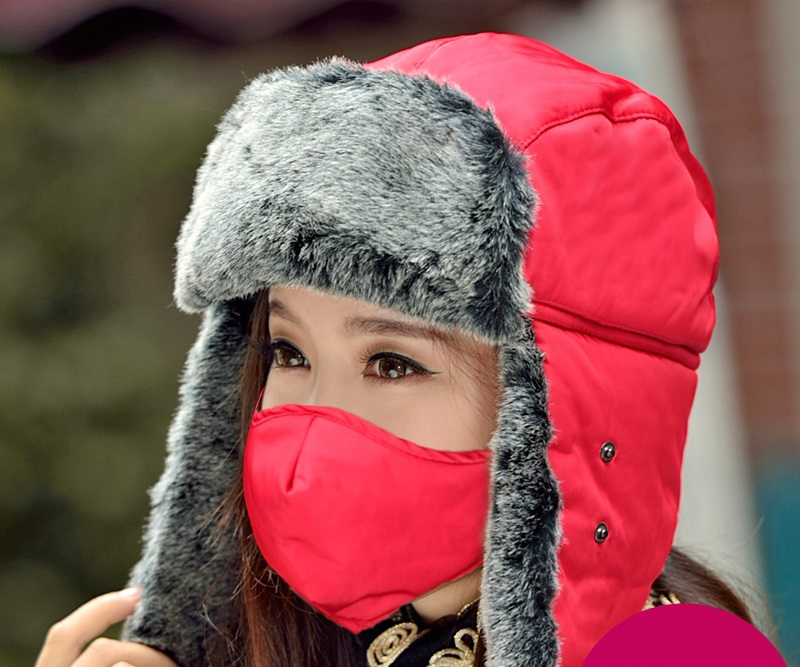face_mask: (232, 241, 516, 585)
